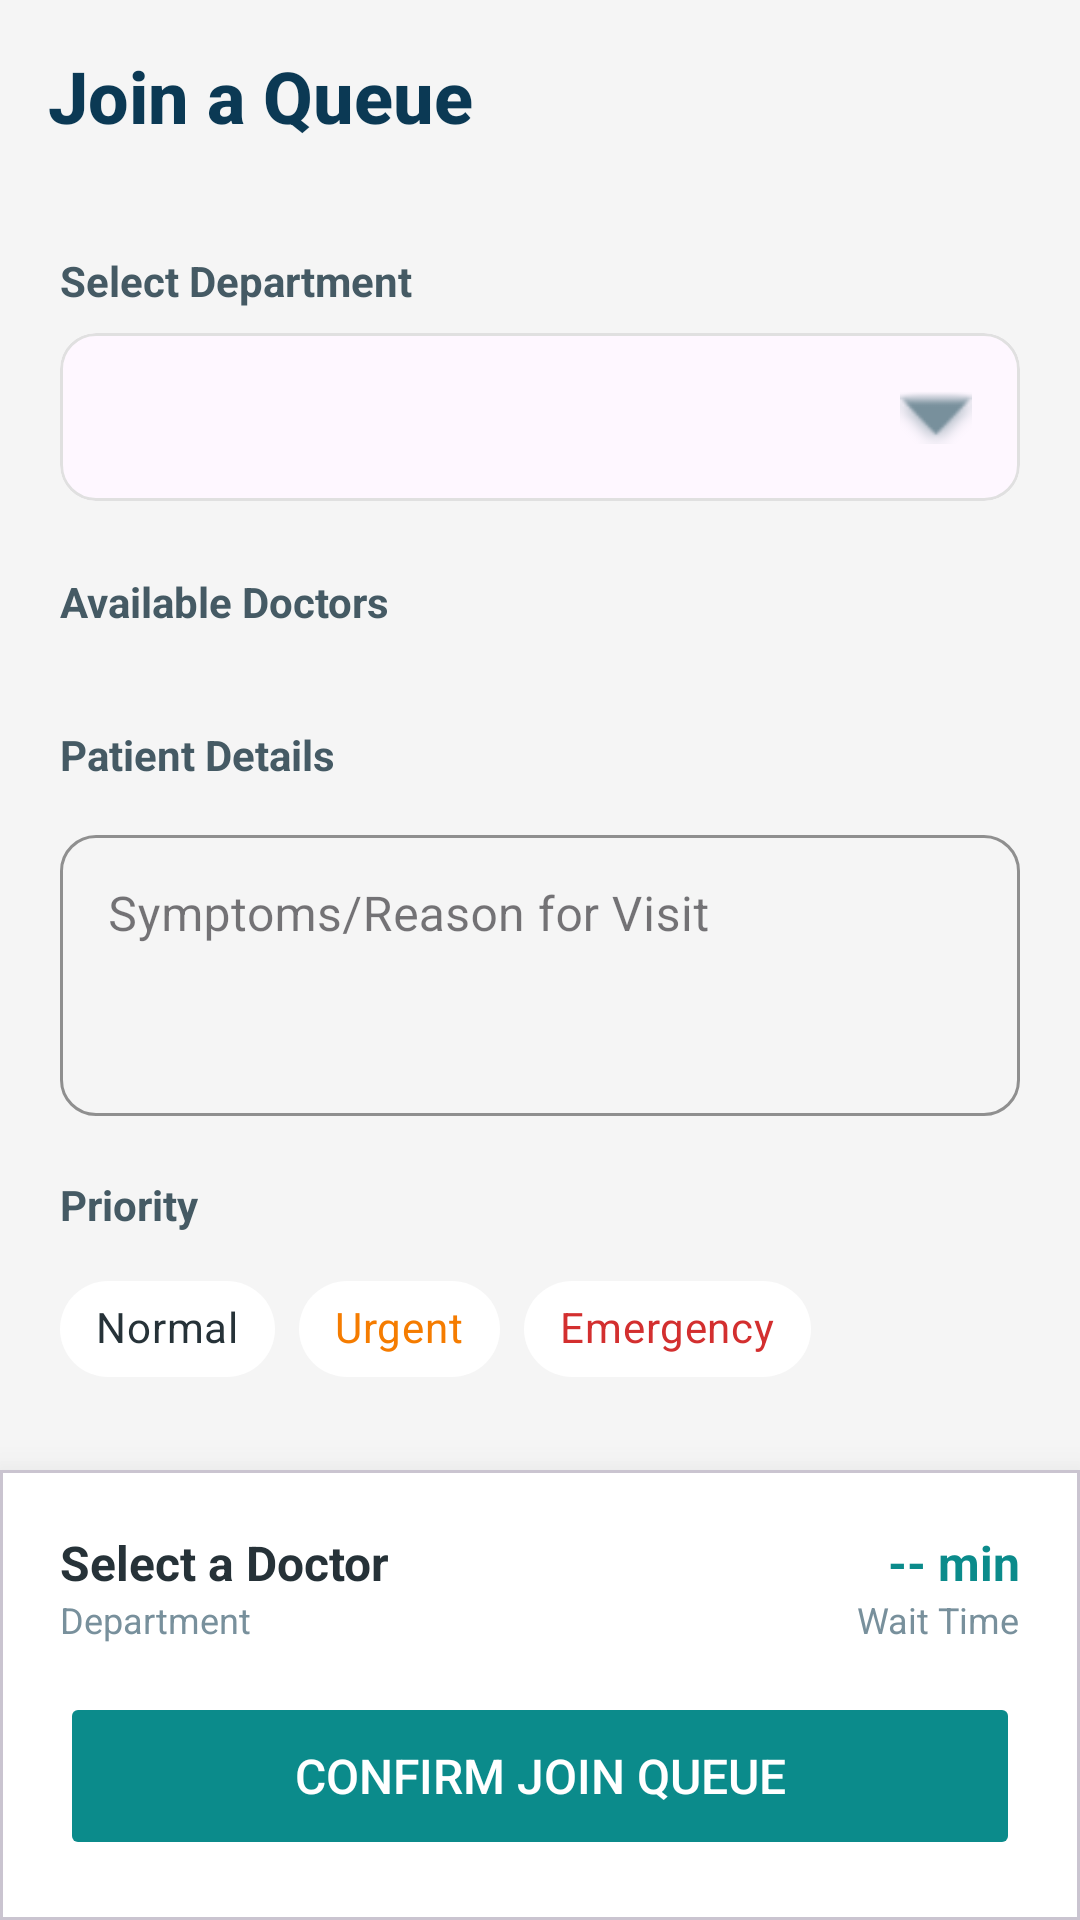

Named icons in this screenshot (1080w x 1920h) and their centers, [x,y]:
arrow down float: [936,416]
